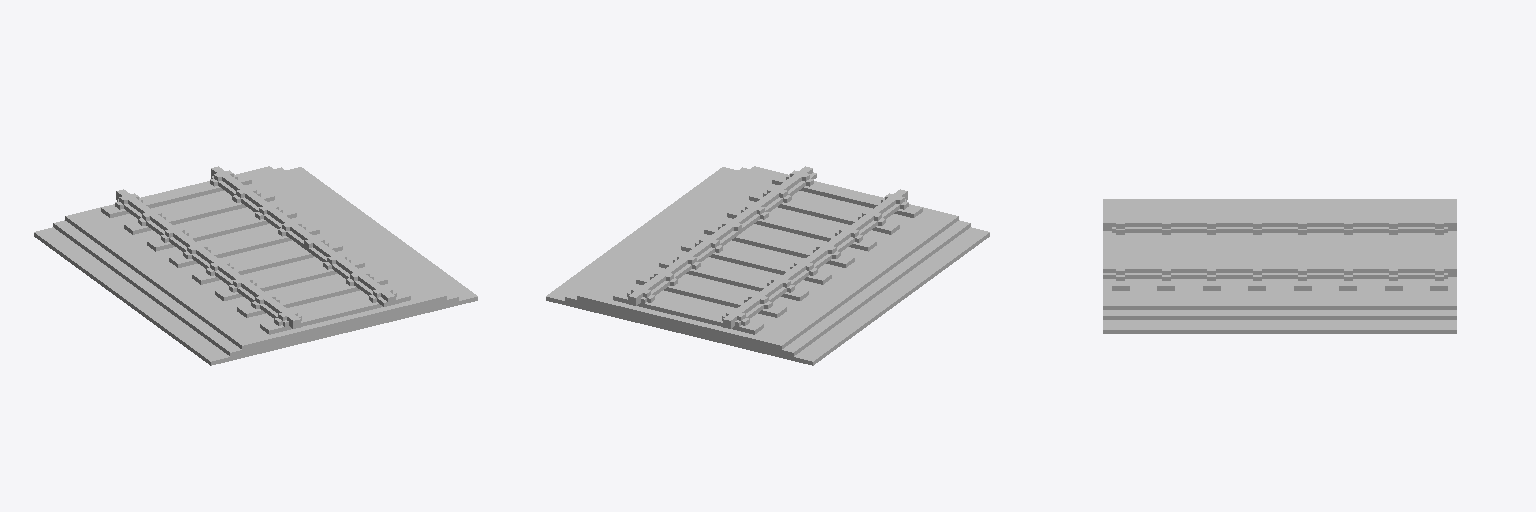
File: Train track.obj
3 views of the same model, side by side, from view 1: azimuth 30°, elevation 25°; view 2: azimuth 150°, elevation 25°; view 3: azimuth 270°, elevation 25° (orthographic).
Bounding box in the file's own units: 68 × 6 × 78.